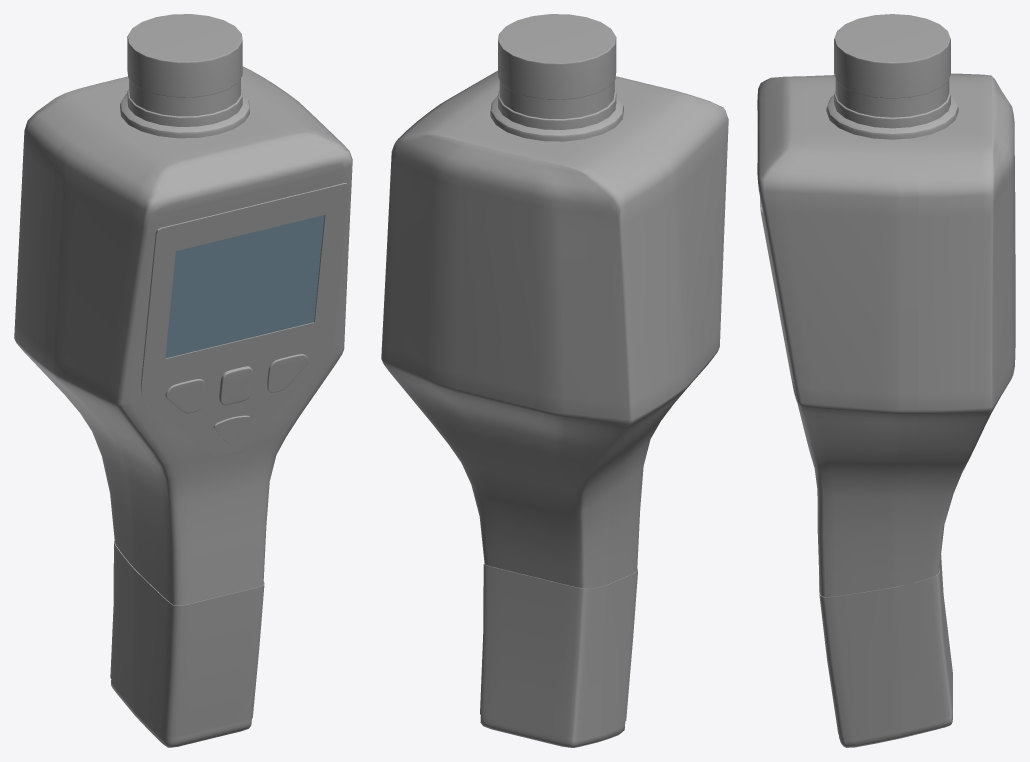
File: identifinder.fbx
3 renders of one model, left to right at view 1: azimuth 30°, elevation 25°; view 2: azimuth 150°, elevation 25°; view 3: azimuth 270°, elevation 25°, orthographic. The views are drawn at different scales.
Parts seen in each view (by area): view 1: identifinder; view 2: identifinder; view 3: identifinder.
Part boxes in pixels (left/top/right/bottom): identifinder: left=14, top=14, right=352, bottom=747; identifinder: left=381, top=14, right=728, bottom=747; identifinder: left=757, top=14, right=1015, bottom=747.
Size of the model in its own units: 14.53 by 37.01 by 12.53.
